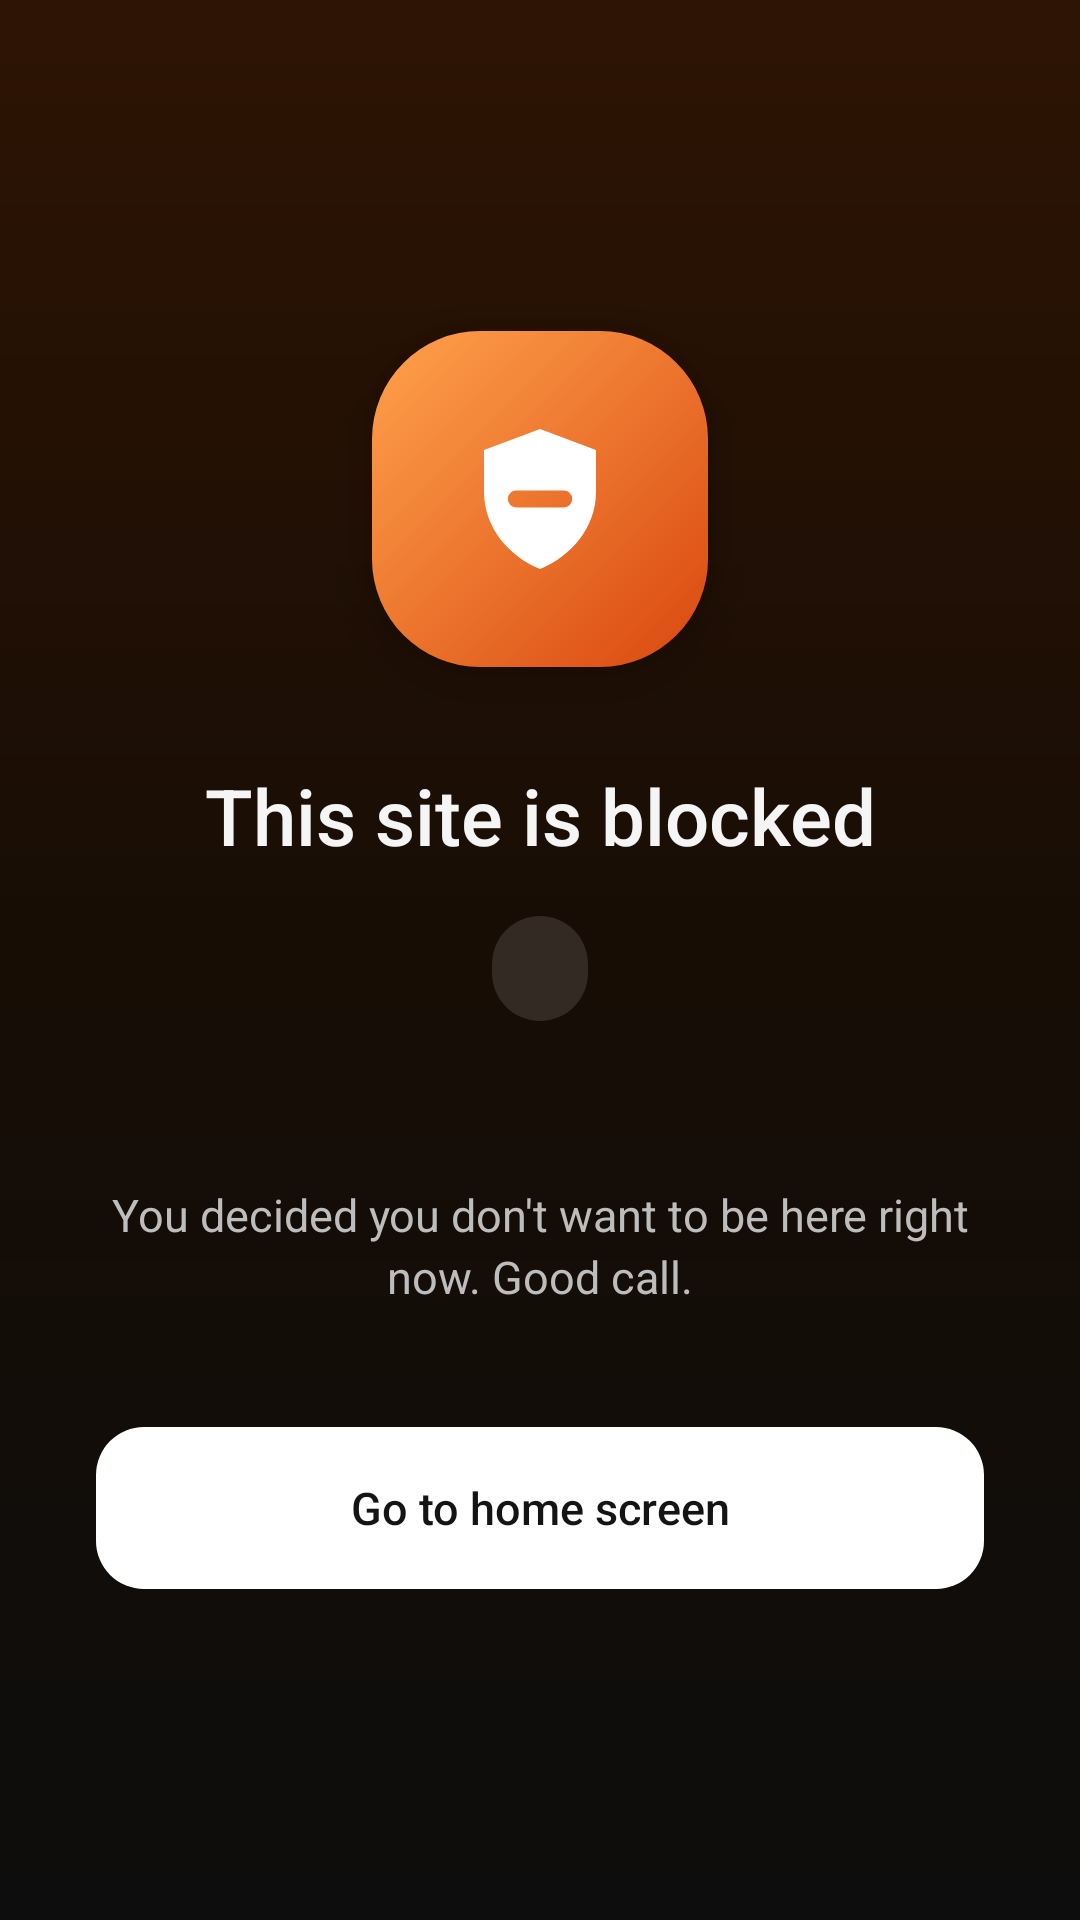

Icon bounding boxes for this 1080 × 1920 phone screenshot, format (x1, y1, x2, y2):
shield: (372, 331, 708, 667)
